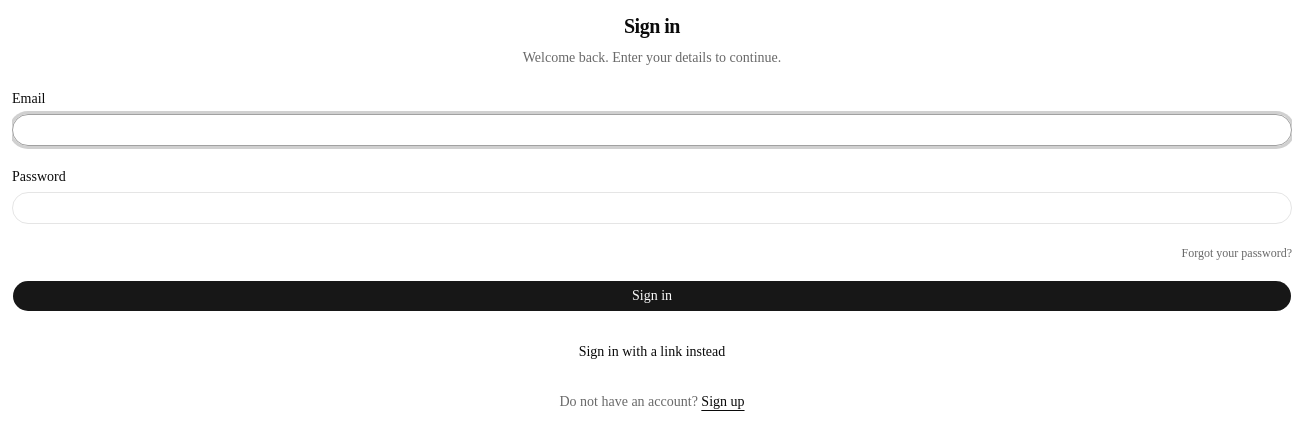
Scenario: LoginForm — submission › disables the submit button while the request is in flight
Type "alex@example.com" into the field labelled "Email" at (652, 130), box [12, 114, 1292, 146]
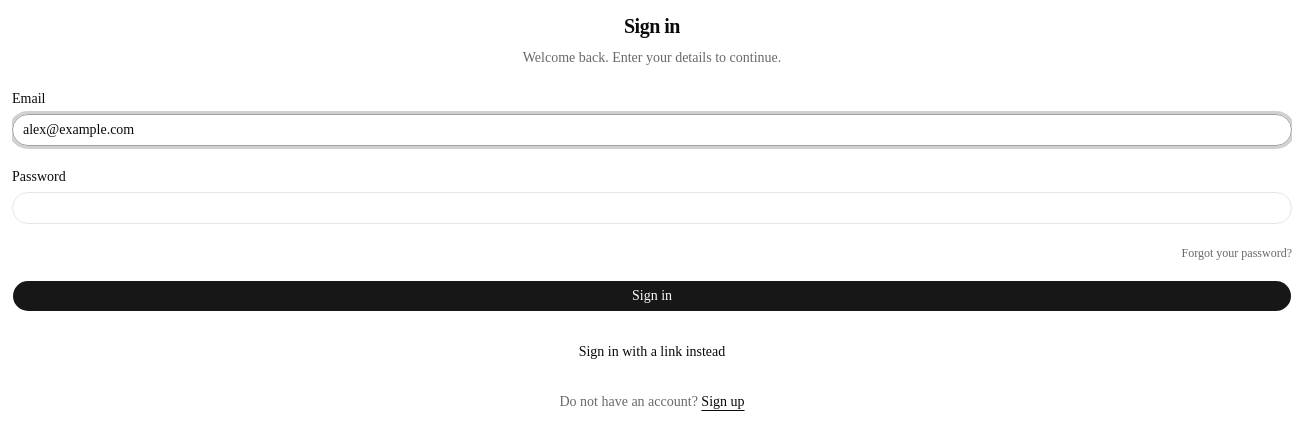
Type "correct horse battery" into the password field labelled "Password" at (652, 208), box [12, 192, 1292, 224]
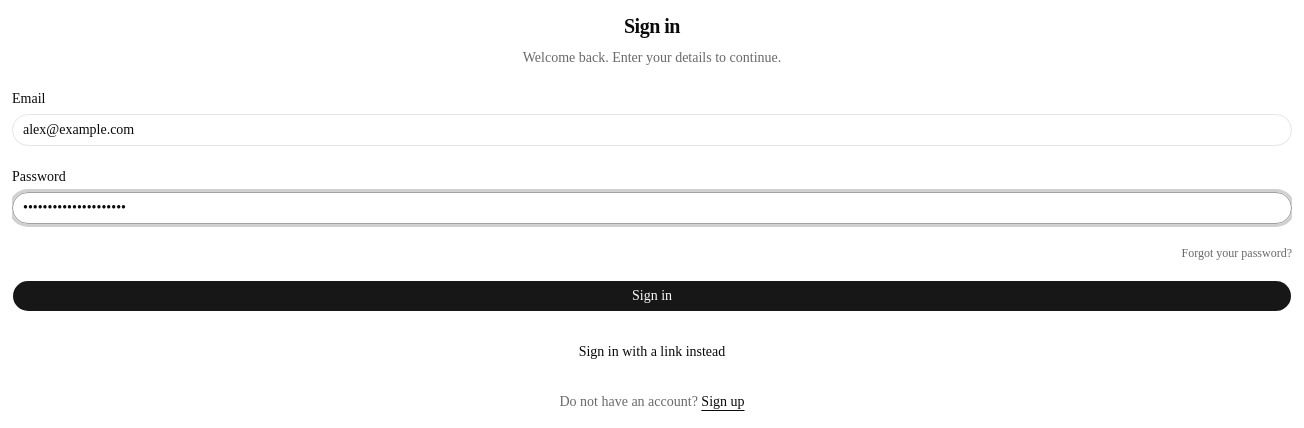
Click the button "Sign in" at (652, 296), box [12, 280, 1292, 312]
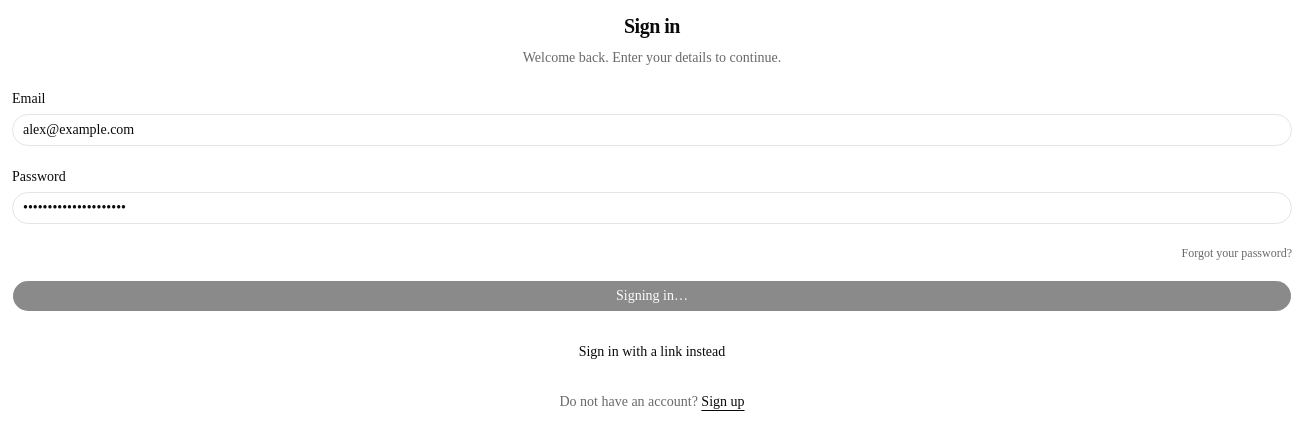
Now the button "Signing in…" is disabled, box [12, 280, 1292, 312]
